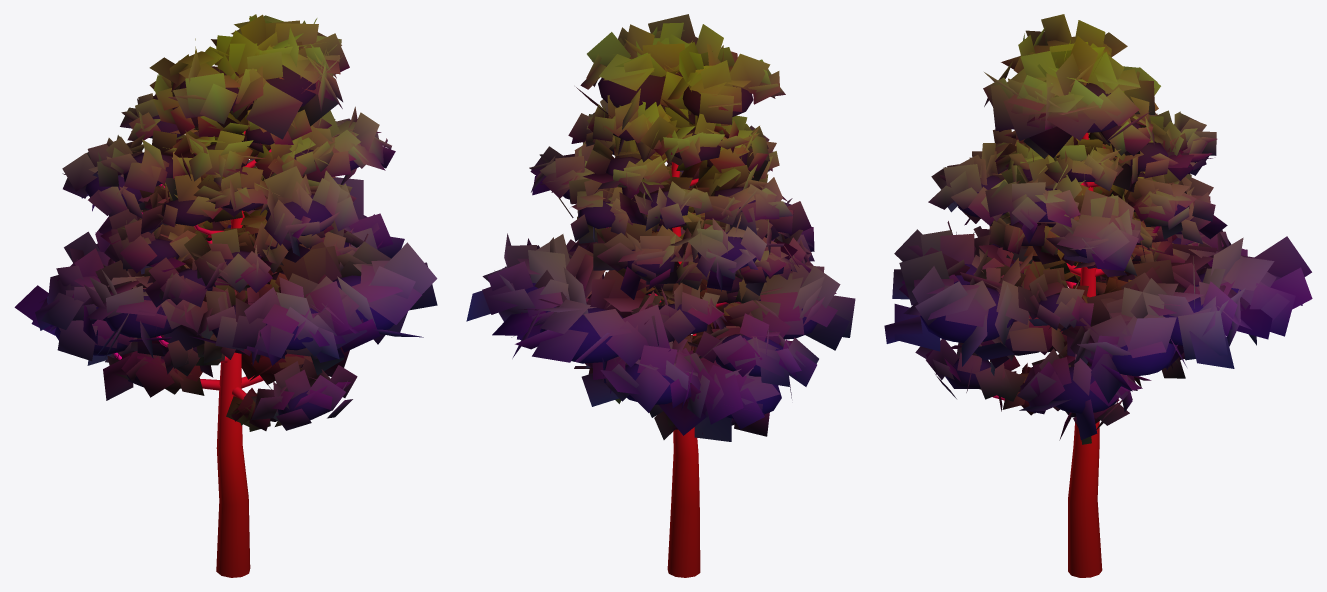
The model's file is Pine_A.fbx.
The picture shows the model from 3 angles, left to right: view 1: azimuth 30°, elevation 25°; view 2: azimuth 150°, elevation 25°; view 3: azimuth 270°, elevation 25°; orthographic projection. The views are drawn at different scales.
Visible parts, largest first — view 1: Pine_A_LOD0; view 2: Pine_A_LOD0; view 3: Pine_A_LOD0.
Boxes of the visible parts, x1=… form: Pine_A_LOD0: x1=14, y1=14, x2=437, y2=577; Pine_A_LOD0: x1=466, y1=14, x2=855, y2=577; Pine_A_LOD0: x1=884, y1=14, x2=1312, y2=577.
Size of what is drawn, in the model's own units: 10.49 by 15.99 by 11.5.
